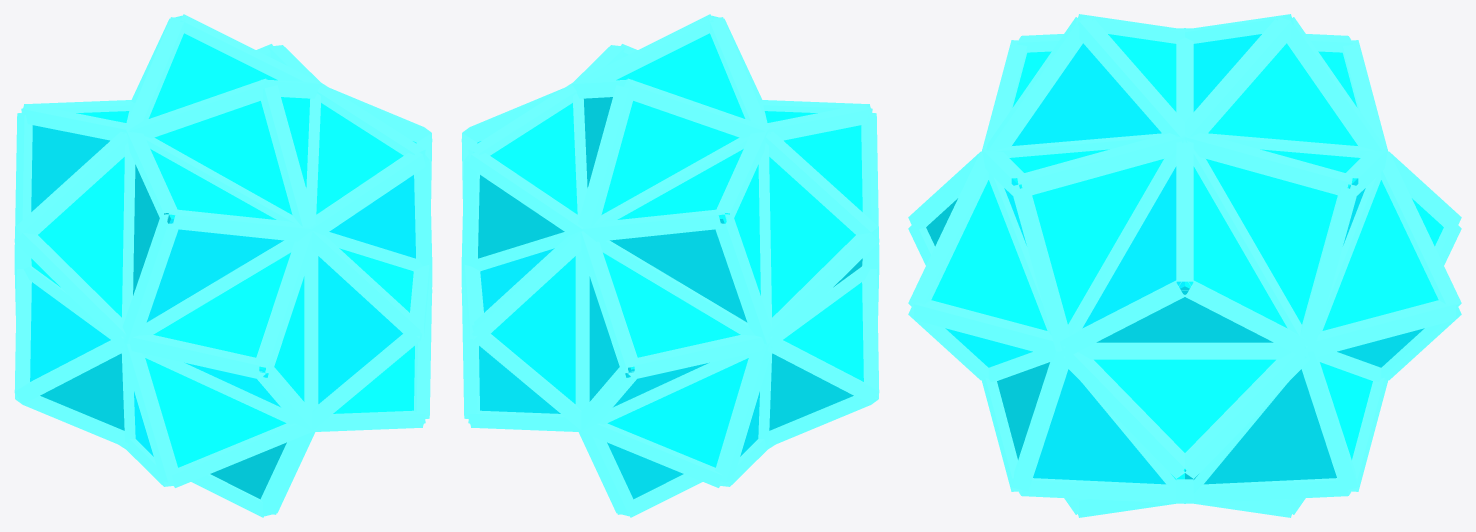
Rendered from bit-soft.glb.
3 views of the same model, side by side, from view 1: azimuth 30°, elevation 25°; view 2: azimuth 150°, elevation 25°; view 3: azimuth 270°, elevation 25° (orthographic). The views are drawn at different scales.
Bounding box in the file's own units: 2.23 × 2.21 × 2.23.
